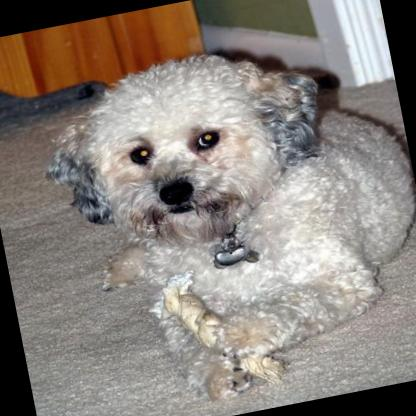miniature_poodle: (20, 18, 416, 416)
